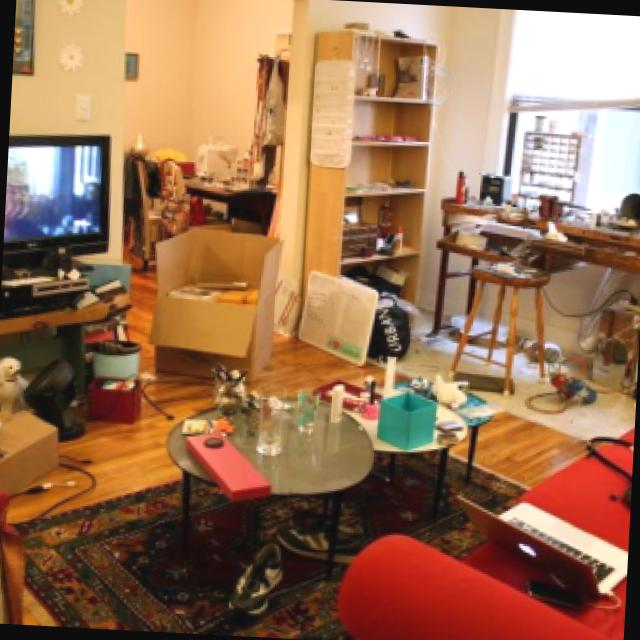mess: (171, 350, 494, 497), (427, 459, 633, 640), (369, 288, 640, 422), (0, 330, 164, 506), (449, 152, 640, 295), (112, 122, 336, 240), (337, 35, 432, 278)
